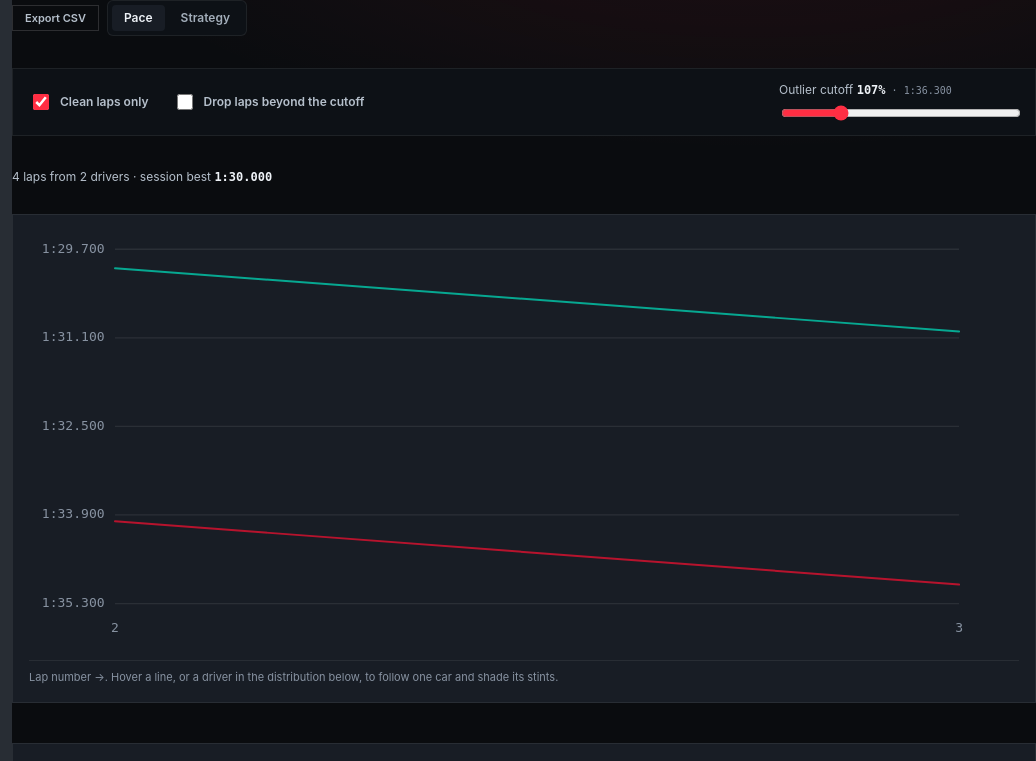
it: RacePaceView › changes the lap count when clean laps only is toggled
Expected: the text "4 laps from 2 drivers · session best 1:30.000" is shown, [12, 169, 272, 184]
Click the checkbox labelled "Clean laps only" at (41, 102), box [33, 94, 49, 110]
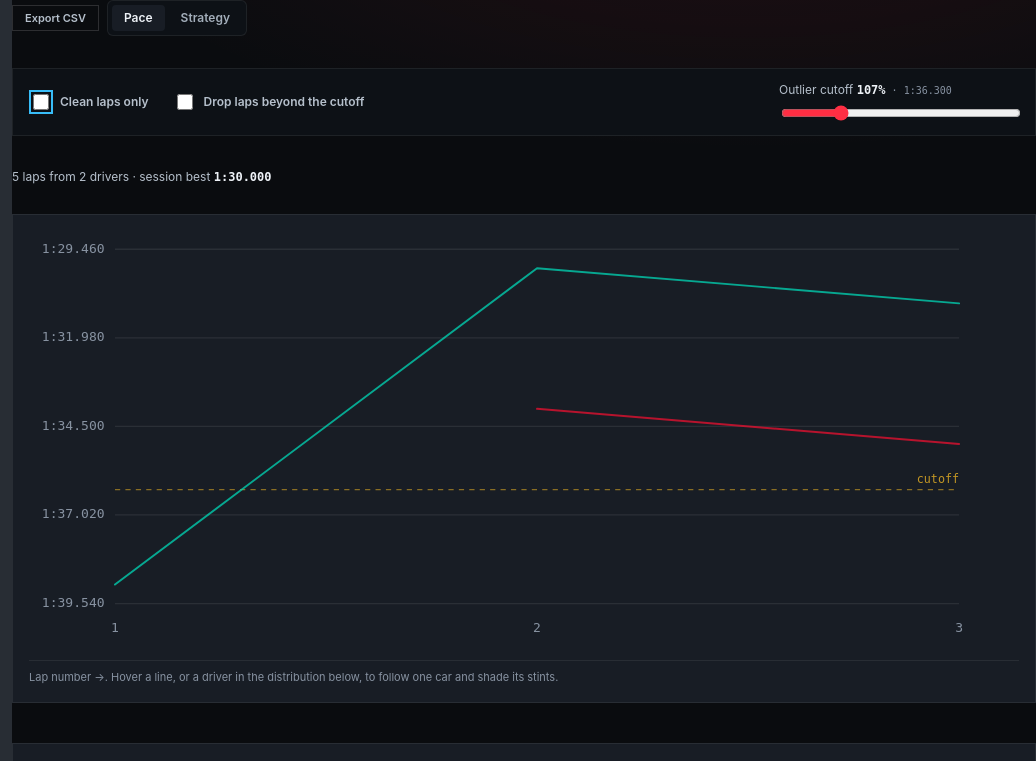
Expected: the text "5 laps from 2 drivers · session best 1:30.000" is shown, [12, 169, 272, 184]
